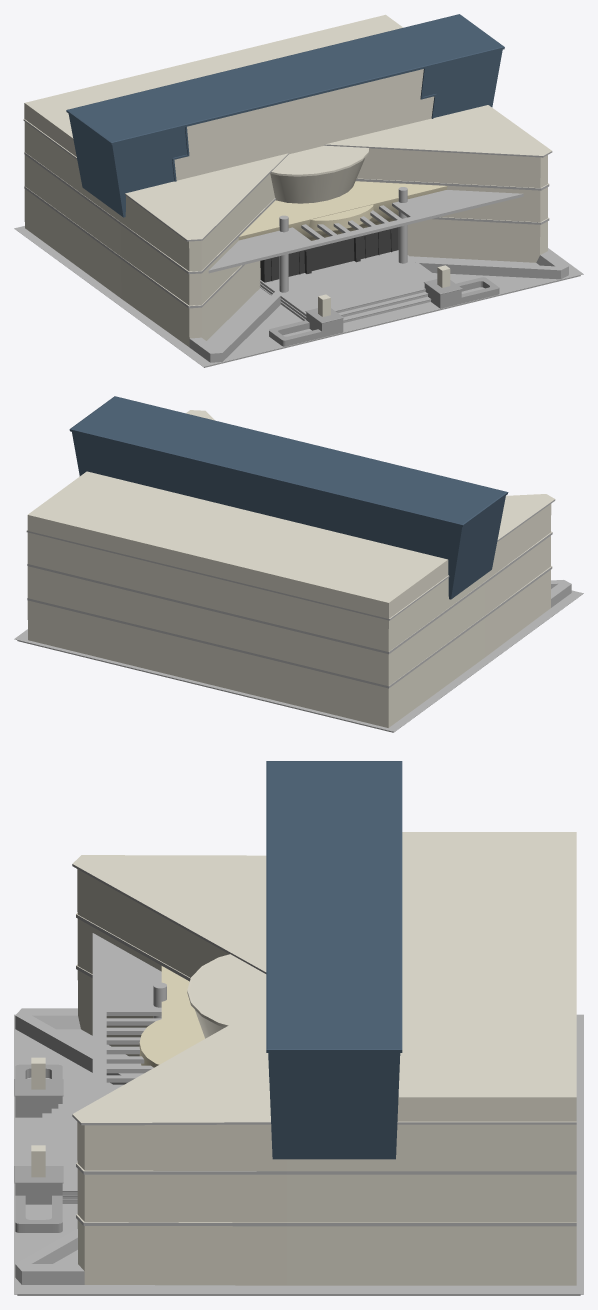
File: musuem.FBX
3 renders of one model, top to bottom at view 1: azimuth 30°, elevation 25°; view 2: azimuth 150°, elevation 25°; view 3: azimuth 270°, elevation 25°, orthographic. The views are drawn at different scales.
Parts seen in each view (by area): view 1: polySurface8, pCube24, pPlane8, pPlane15, pPlane5, pCylinder9, pCylinder10, pPlane4, polySurface10_polySurface3_pCube22_polySurface11, polySurface3_pCube22_polySurface12, pCube16_group1, pCube16_group2 (+5 smaller); view 2: polySurface8, pCube24, pPlane8; view 3: polySurface8, pCube24, pPlane8, pPlane15, pCylinder9, polySurface10_polySurface3_pCube22_polySurface11, pCube16_group2, pCylinder10, polySurface3_pCube22_polySurface12, pCube16_group1, pPlane5, pCylinder11.
Part boxes in pixels (x1,y1,x2,y2): polySurface8: [23, 14, 552, 347]; pCube24: [66, 14, 504, 217]; pPlane8: [14, 226, 583, 367]; pPlane15: [208, 190, 523, 273]; pPlane5: [259, 250, 437, 316]; pCylinder9: [270, 145, 369, 203]; pCylinder10: [238, 181, 447, 240]; pPlane4: [260, 227, 398, 282]; polySurface10_polySurface3_pCube22_polySurface11: [189, 288, 280, 362]; polySurface3_pCube22_polySurface12: [410, 251, 568, 279]; pCube16_group1: [269, 308, 343, 346]; pCube16_group2: [424, 277, 499, 308]; polySurface8: [26, 410, 555, 727]; pCube24: [69, 396, 508, 599]; pPlane8: [14, 590, 583, 732]; polySurface8: [72, 832, 576, 1285]; pCube24: [266, 761, 402, 1159]; pPlane8: [14, 1014, 583, 1295]; pPlane15: [92, 933, 161, 1102]; pCylinder9: [187, 954, 266, 1038]; polySurface10_polySurface3_pCube22_polySurface11: [15, 1008, 143, 1084]; pCube16_group2: [14, 1166, 63, 1232]; pCylinder10: [161, 966, 205, 1062]; polySurface3_pCube22_polySurface12: [15, 1228, 84, 1284]; pCube16_group1: [14, 1064, 63, 1117]; pPlane5: [58, 1090, 92, 1194]; pCylinder11: [139, 1019, 161, 1067].
Bounding box in the file's own units: 72.39 × 29.36 × 60.35.
